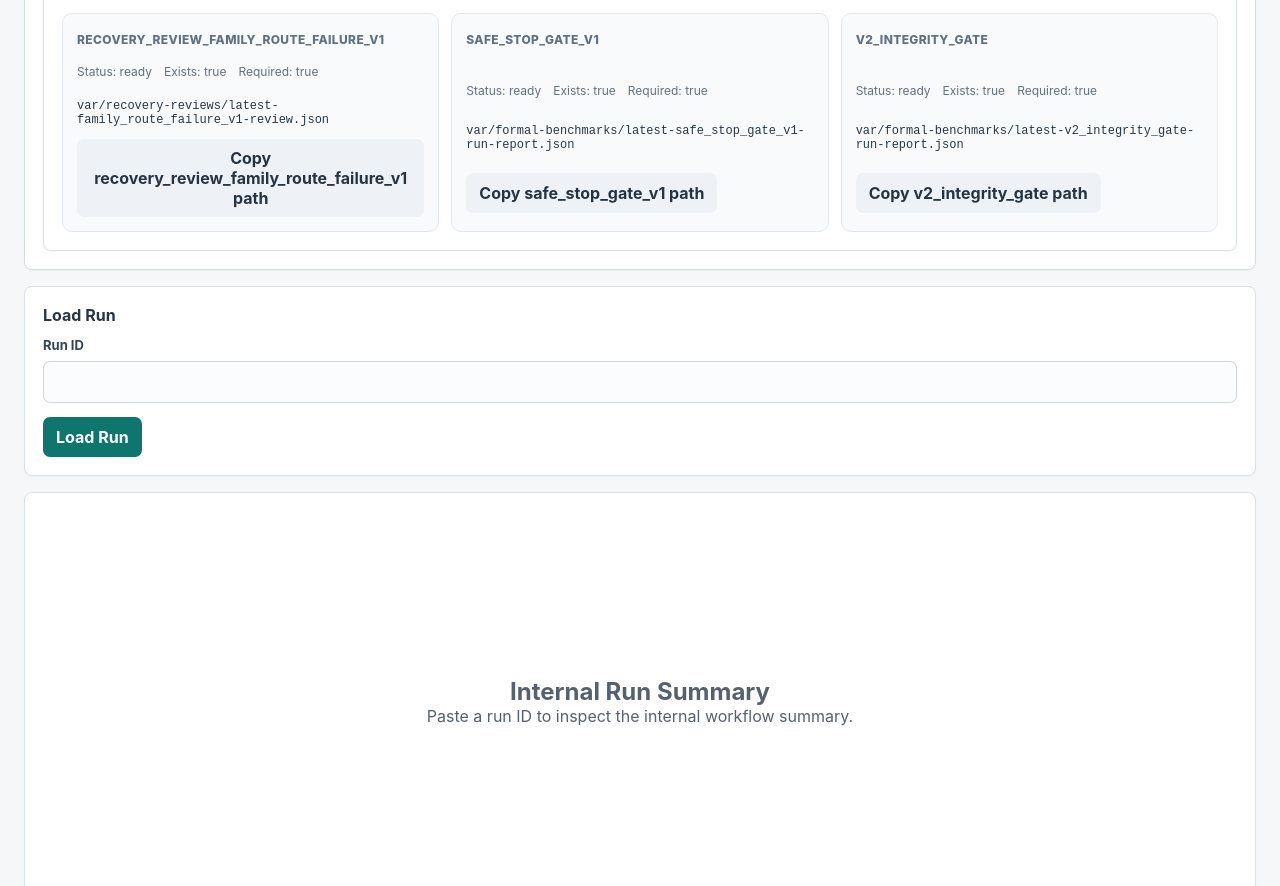
Test: ObservabilityPage › validates empty run IDs before loading
(page scrolled)
Step 1. Click the button "Load Run" → coordinates (92, 436), box [43,416,142,456]
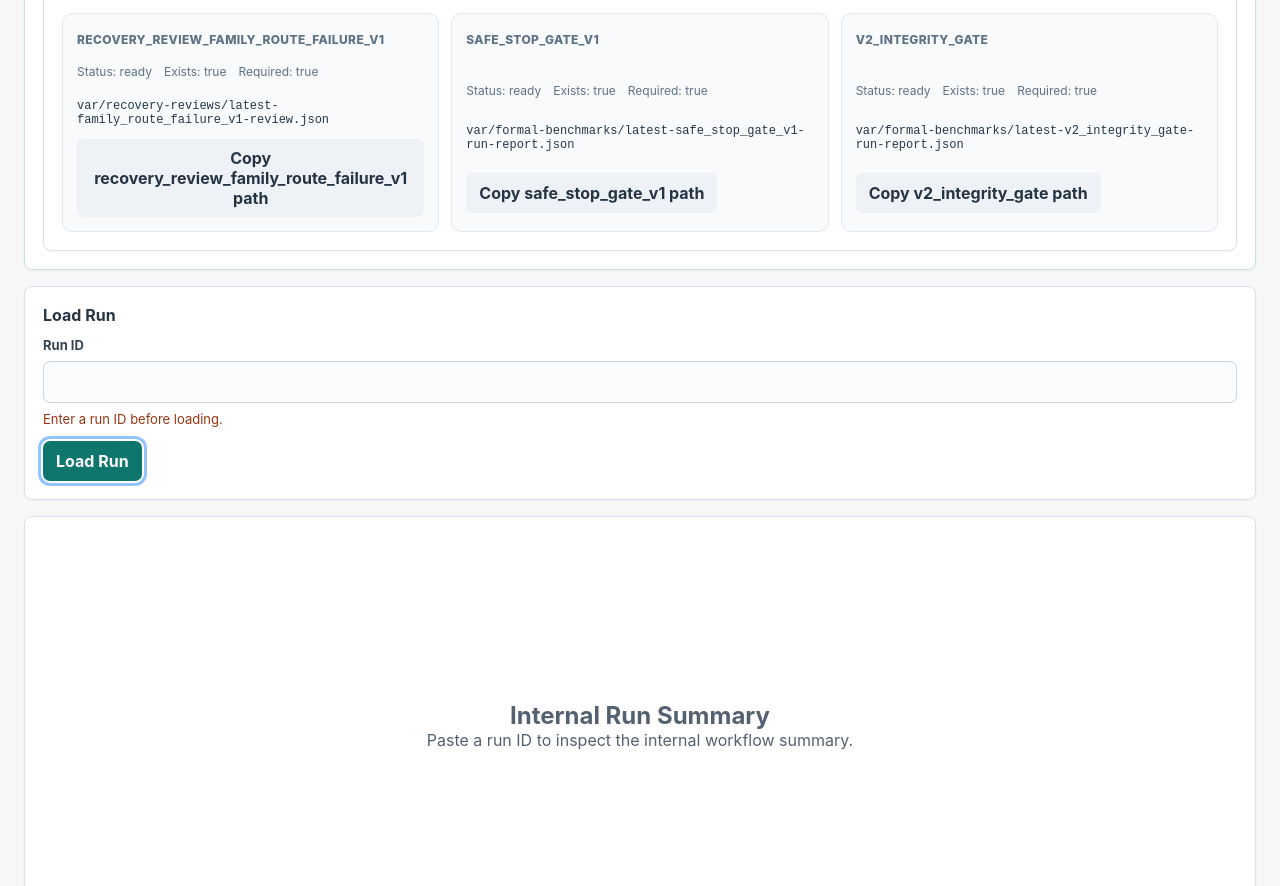
Expected: the text "Enter a run ID before loading." is shown, [43,410,223,426]
